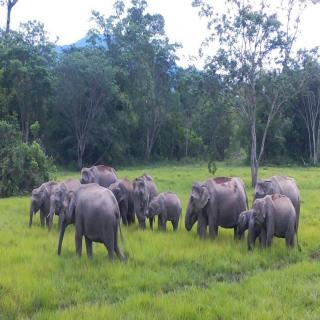Elephant: (55, 185, 125, 269), (184, 174, 249, 245), (246, 196, 302, 262), (148, 191, 184, 240), (28, 177, 62, 228)
